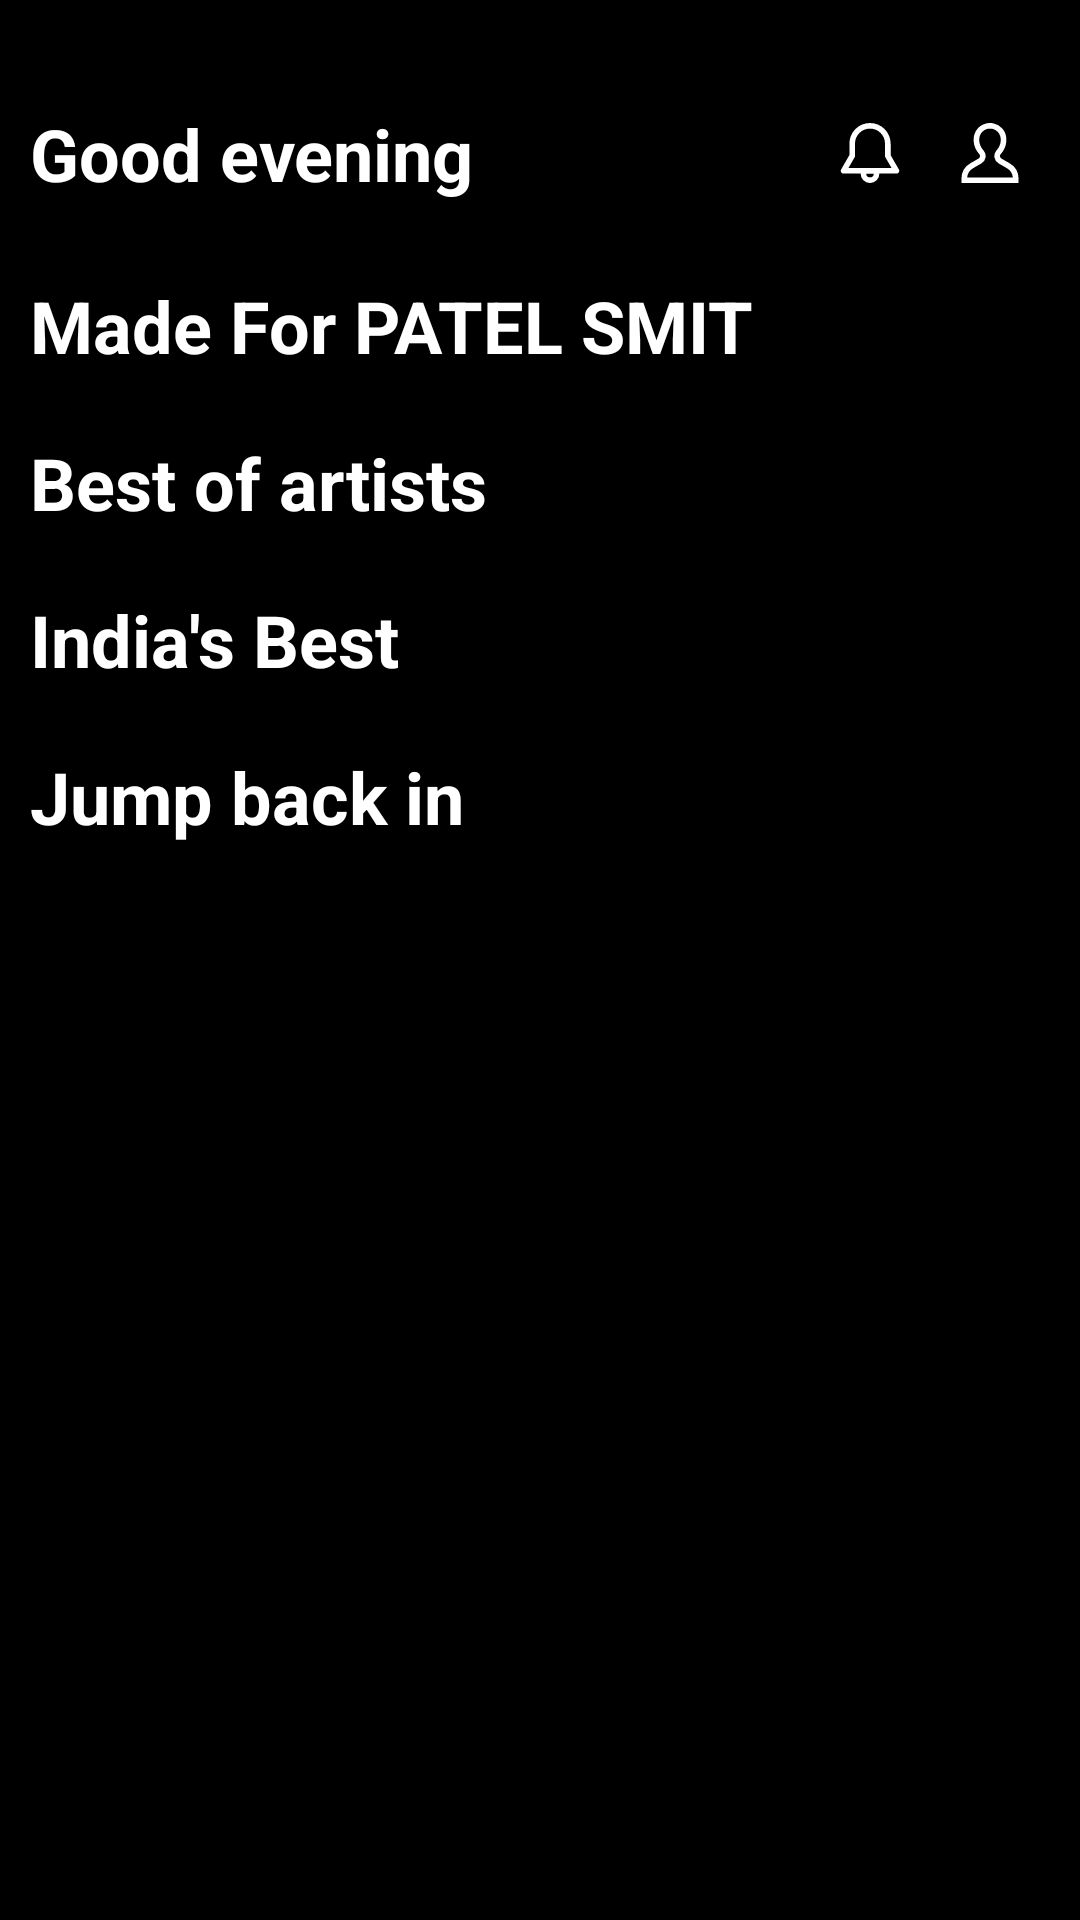

Named icons in this screenshot (1080px x 1920px) and their bounding boxes, (left=x1, top=y1, right=x2, bottom=y2):
notification bell: (left=840, top=123, right=900, bottom=183)
profile: (left=961, top=123, right=1019, bottom=183)
